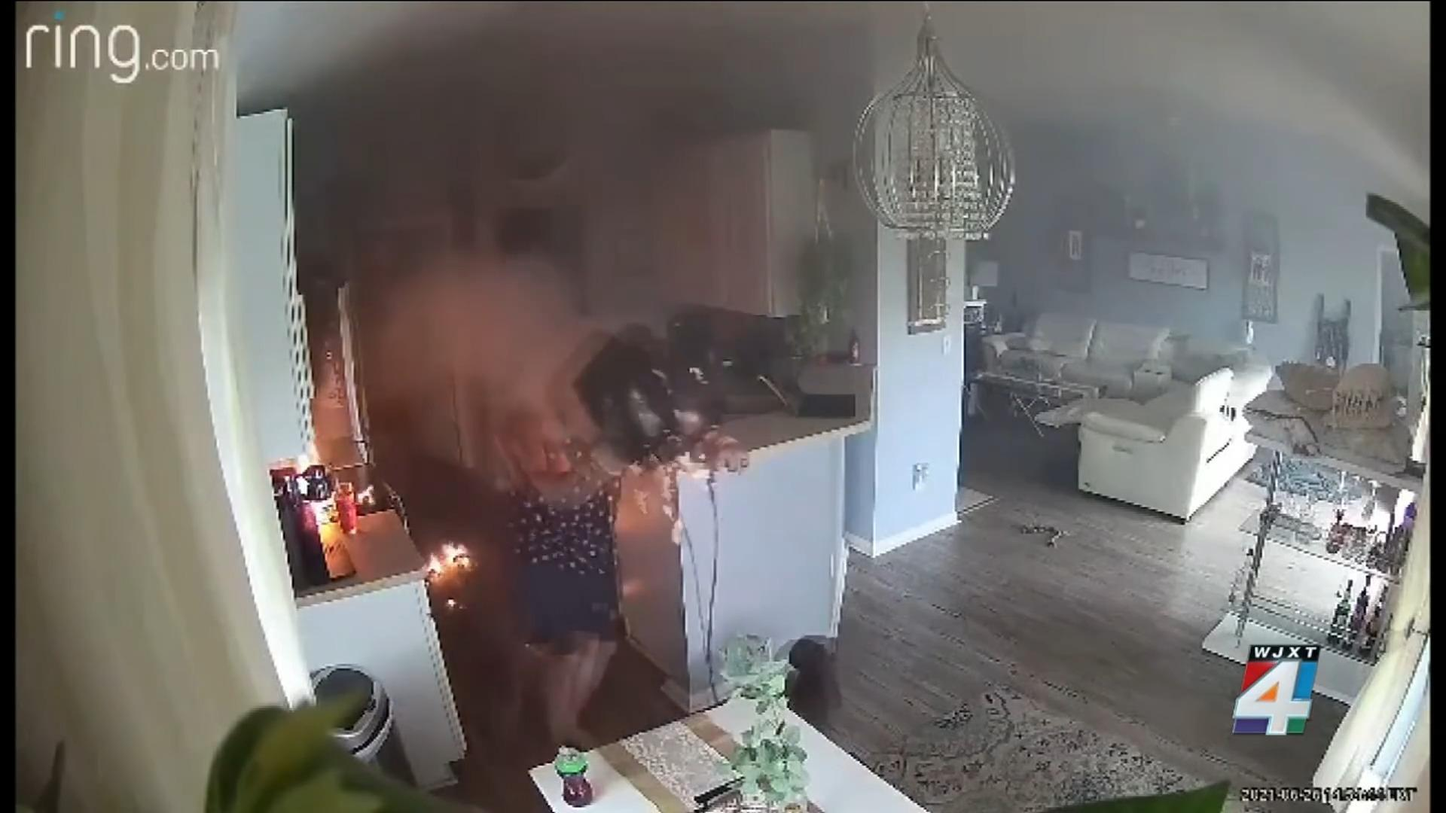fire: (426, 541, 471, 576)
